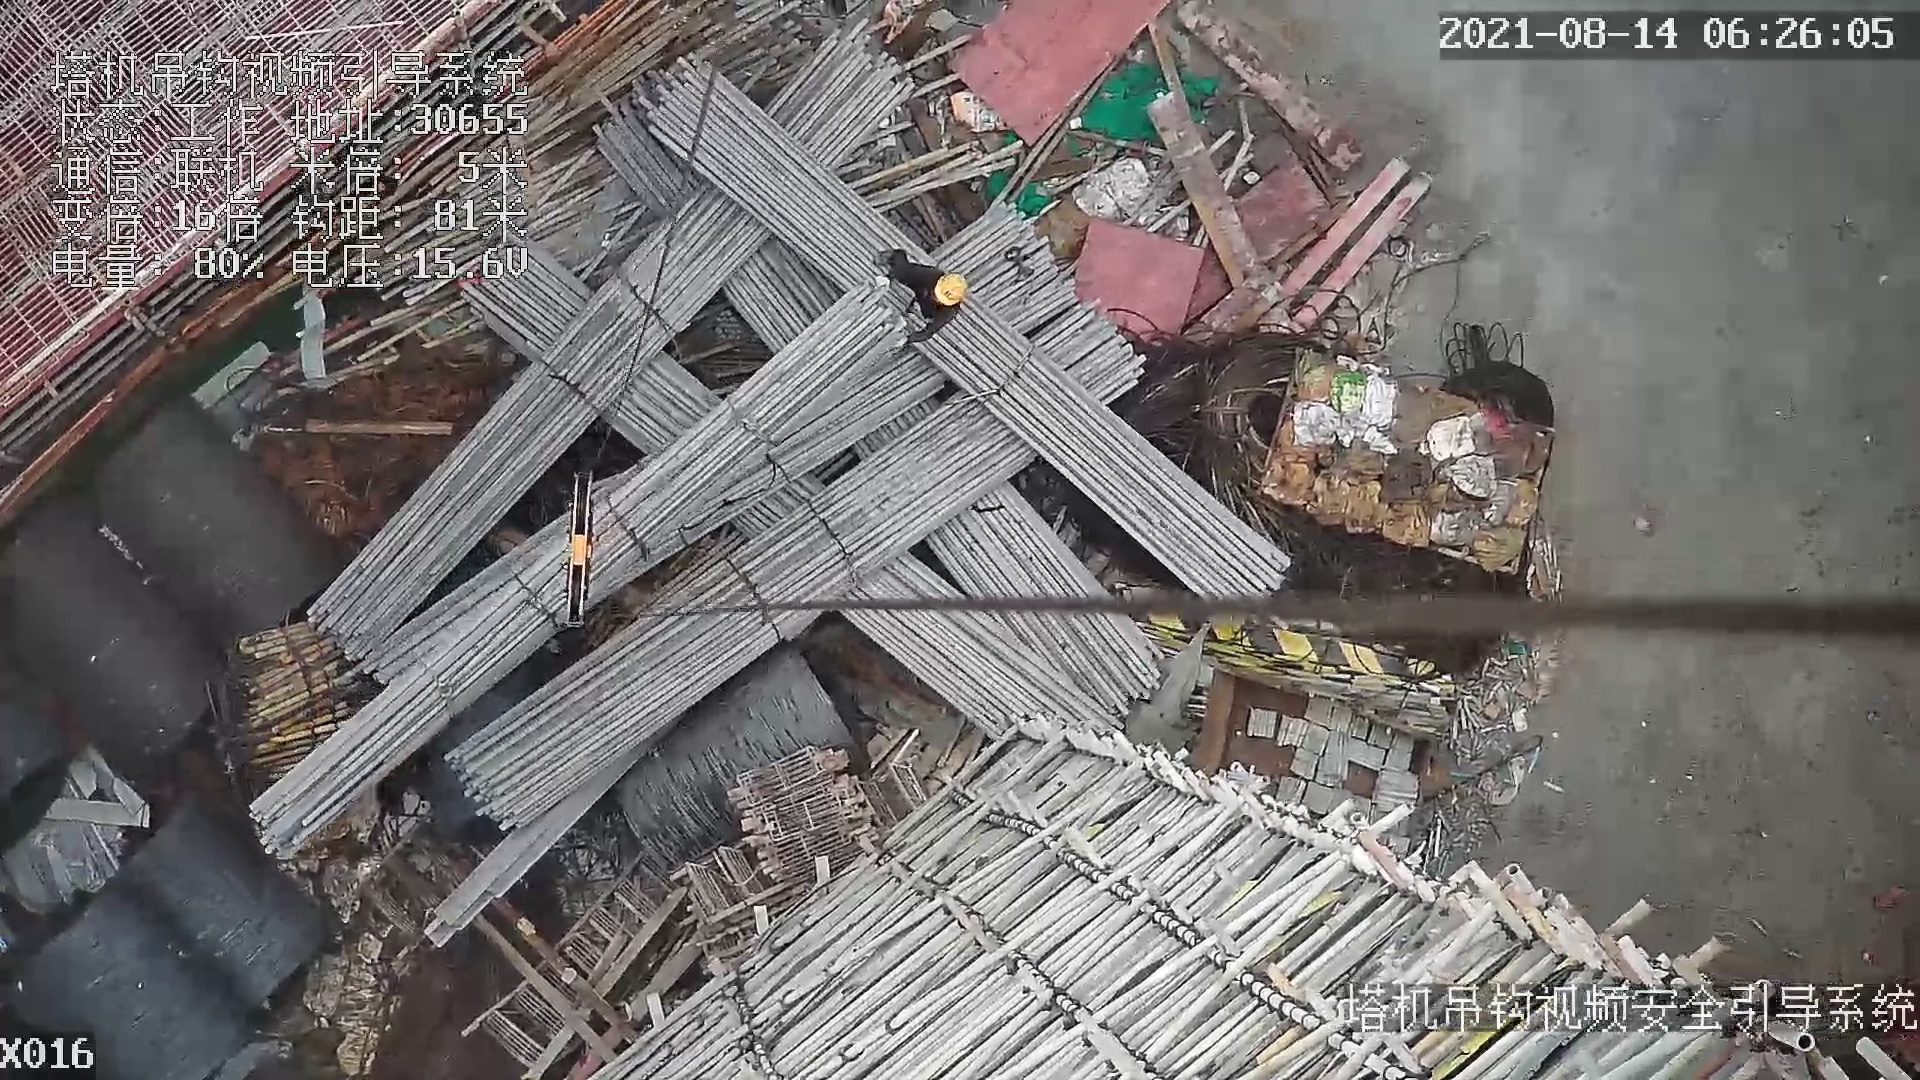helmet: (932, 269, 971, 312)
hook: (563, 471, 594, 633)
person: (874, 246, 968, 349)
